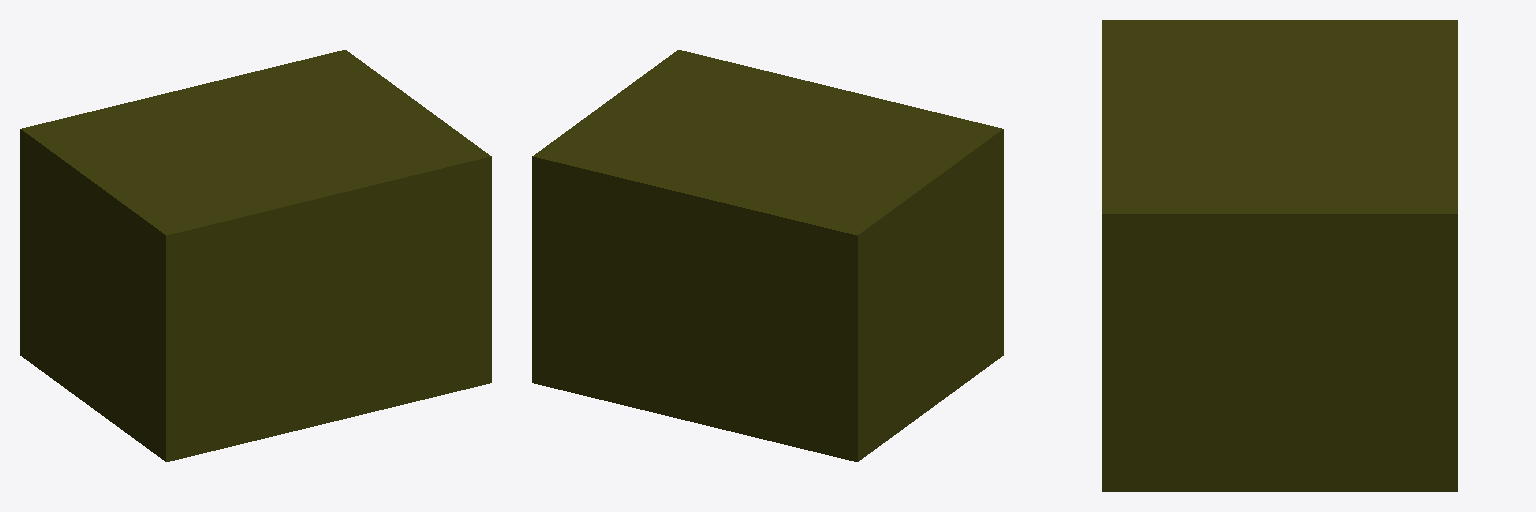
URDF robot description (random_box):
<?xml version='1.0' encoding='UTF-8'?>
<robot name="random_box">
  <link name="box">

    <inertial>
      <mass value="0.3"/>
      <origin xyz="0 0 0" rpy="0 0 0"/>
      <inertia ixx="0.1" ixy="0.1" ixz="0.1" iyy="0.1" iyz="0.1" izz="0.1"/>
    </inertial>

    <visual>
      <geometry>
        <box size="0.9 0.7 0.6"/>
      </geometry>
      <material name="color">
        <color rgba="0.3 0.3 0.1 1"/>
      </material>
    </visual>
    <collision>
      <geometry>
        <box size="0.9 0.7 0.6"/>
      </geometry>

      <surface>
        <friction>
          <ode>
            <mu>100000000.0</mu>
            <mu2>100000000.0</mu2>
          </ode>
        </friction>
        <contact>
          <ode>
            <min_depth>0.003</min_depth>
          </ode>
        </contact>
      </surface>

    </collision>

  </link>
</robot>

--- What the picture shows (computed from the rendered views, not written in the file) ---
3 views of the same robot in one strip: view 1: azimuth 30°, elevation 25°; view 2: azimuth 150°, elevation 25°; view 3: azimuth 270°, elevation 25° (orthographic).
Robot: random_box — 1 links, 0 joints (none); root link box; default pose: all joints at 0.
Visible links, largest first — view 1: box; view 2: box; view 3: box.
Link boxes in pixels (<box>): box: <box>20,50,491,461</box>; box: <box>532,50,1003,461</box>; box: <box>1102,20,1457,491</box>.
Size in the robot's own frame: 0.9 by 0.7 by 0.6 metres.
Geometry: primitives only (box / cylinder / sphere), no mesh files.